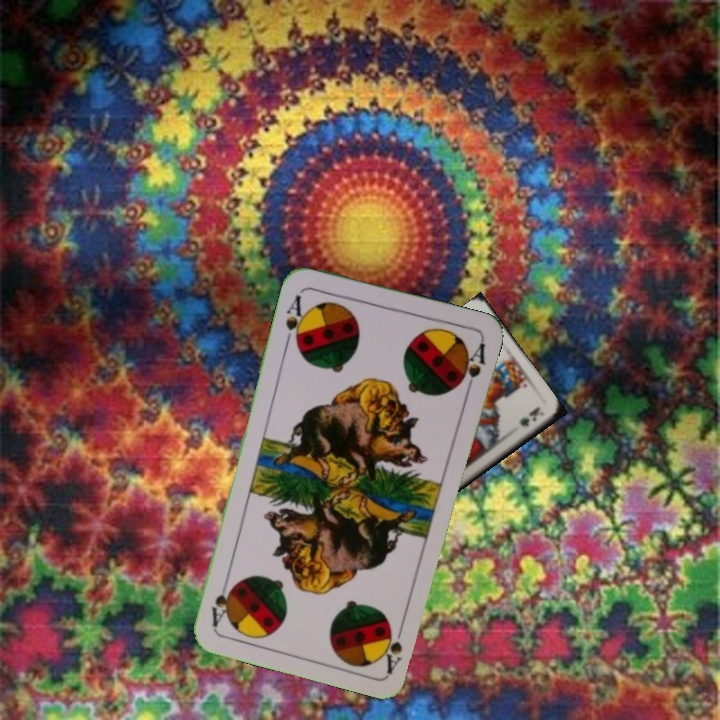SA: (281, 291, 310, 349), (382, 616, 408, 675)
